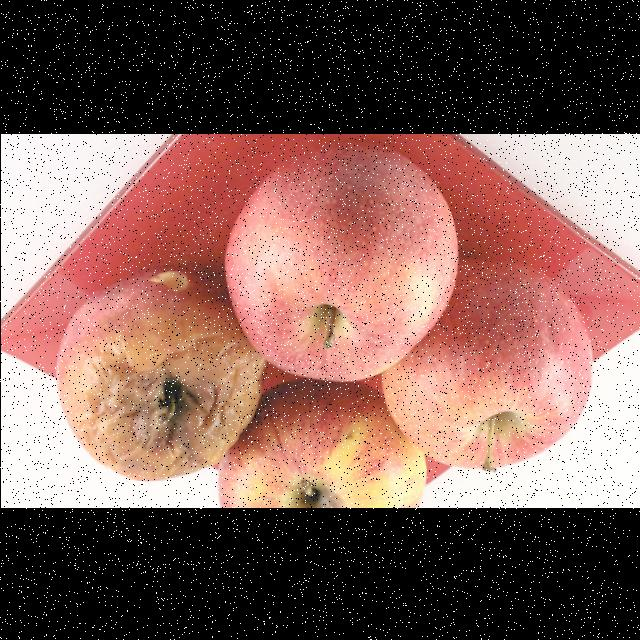Apel Segar: (212, 141, 453, 381), (375, 256, 589, 474)
Apel Tidak Segar: (51, 262, 259, 490), (200, 369, 454, 507)
